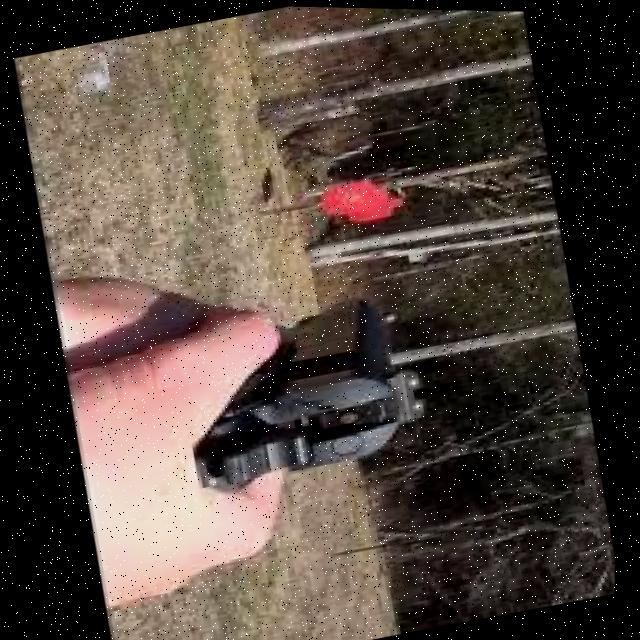pistol: (167, 279, 451, 505)
